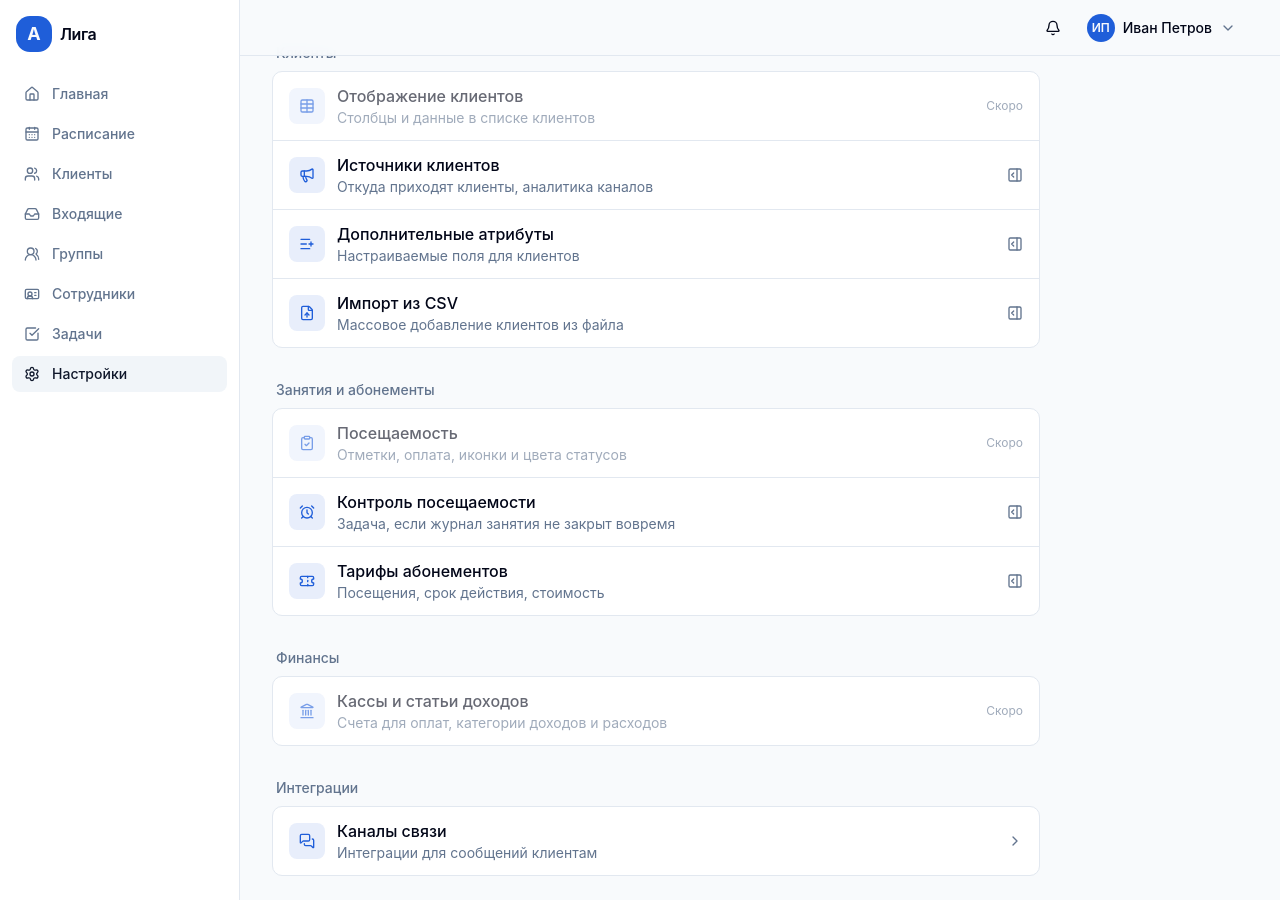
it: контроль посещаемости › пункт настроек открывает панель
The width and height of the screenshot is (1280, 900).
(page scrolled)
Click the link "Контроль посещаемости".
click(656, 512)  # box [289,492,1023,532]
(page scrolled)
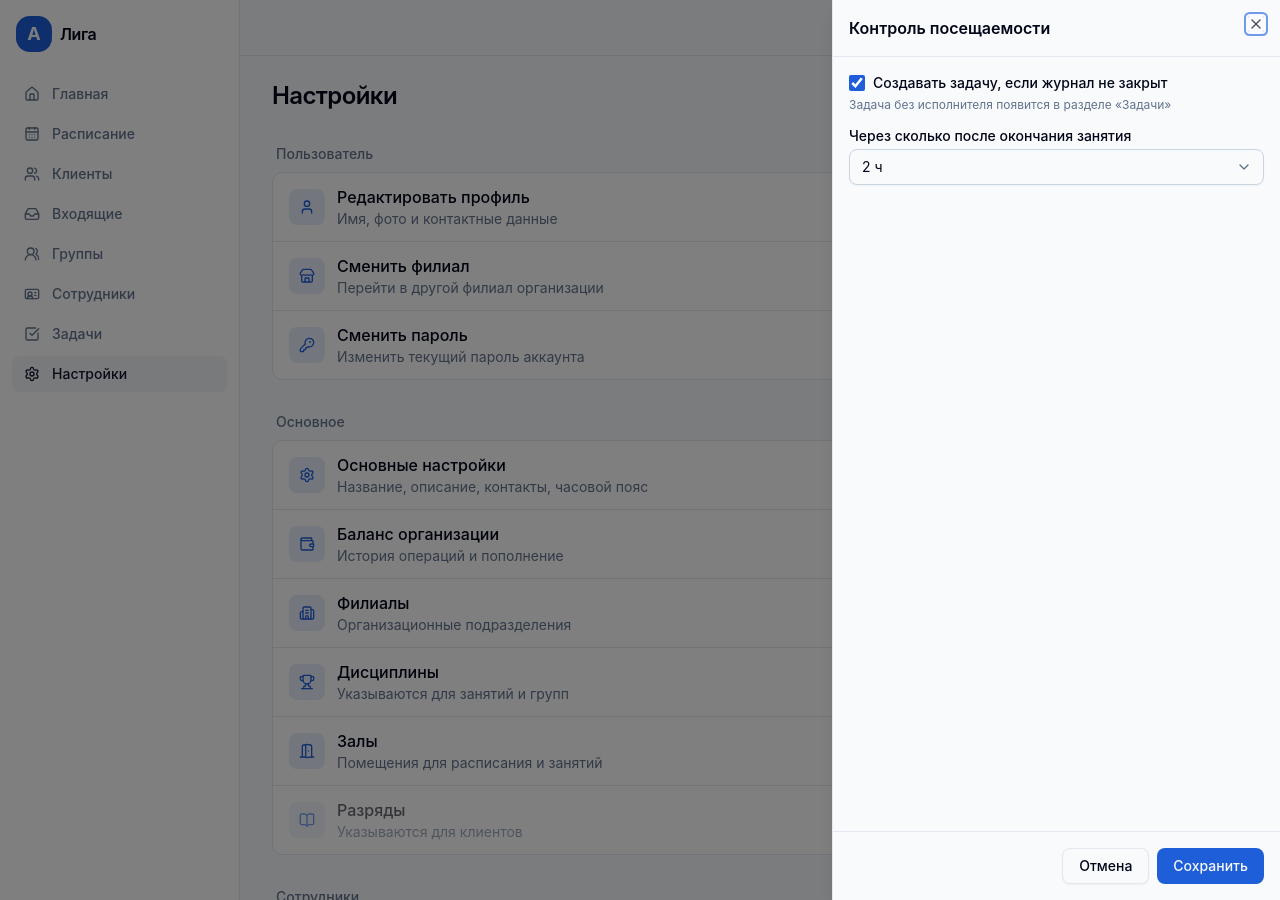
Expected: the dialog "Контроль посещаемости" is shown, [832,0,1279,899]
